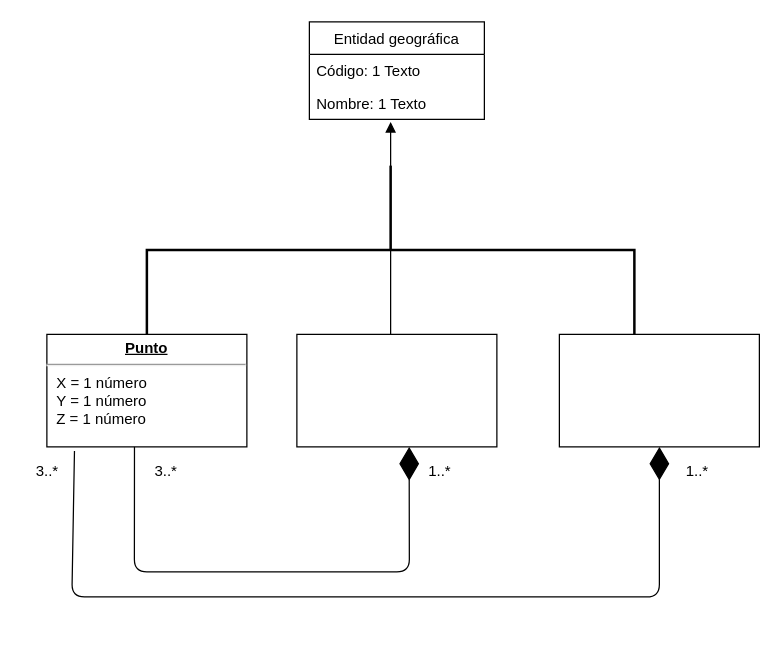
The diagram is 781 pixels wide and 651 high, and some of its shapes have lost their labels. The shapes that lost their labels are listed below. From the top down, each one's centre as x and y in pixels, then its label:
At pixel 396 390: "Línea".
At pixel 658 390: "Área".
